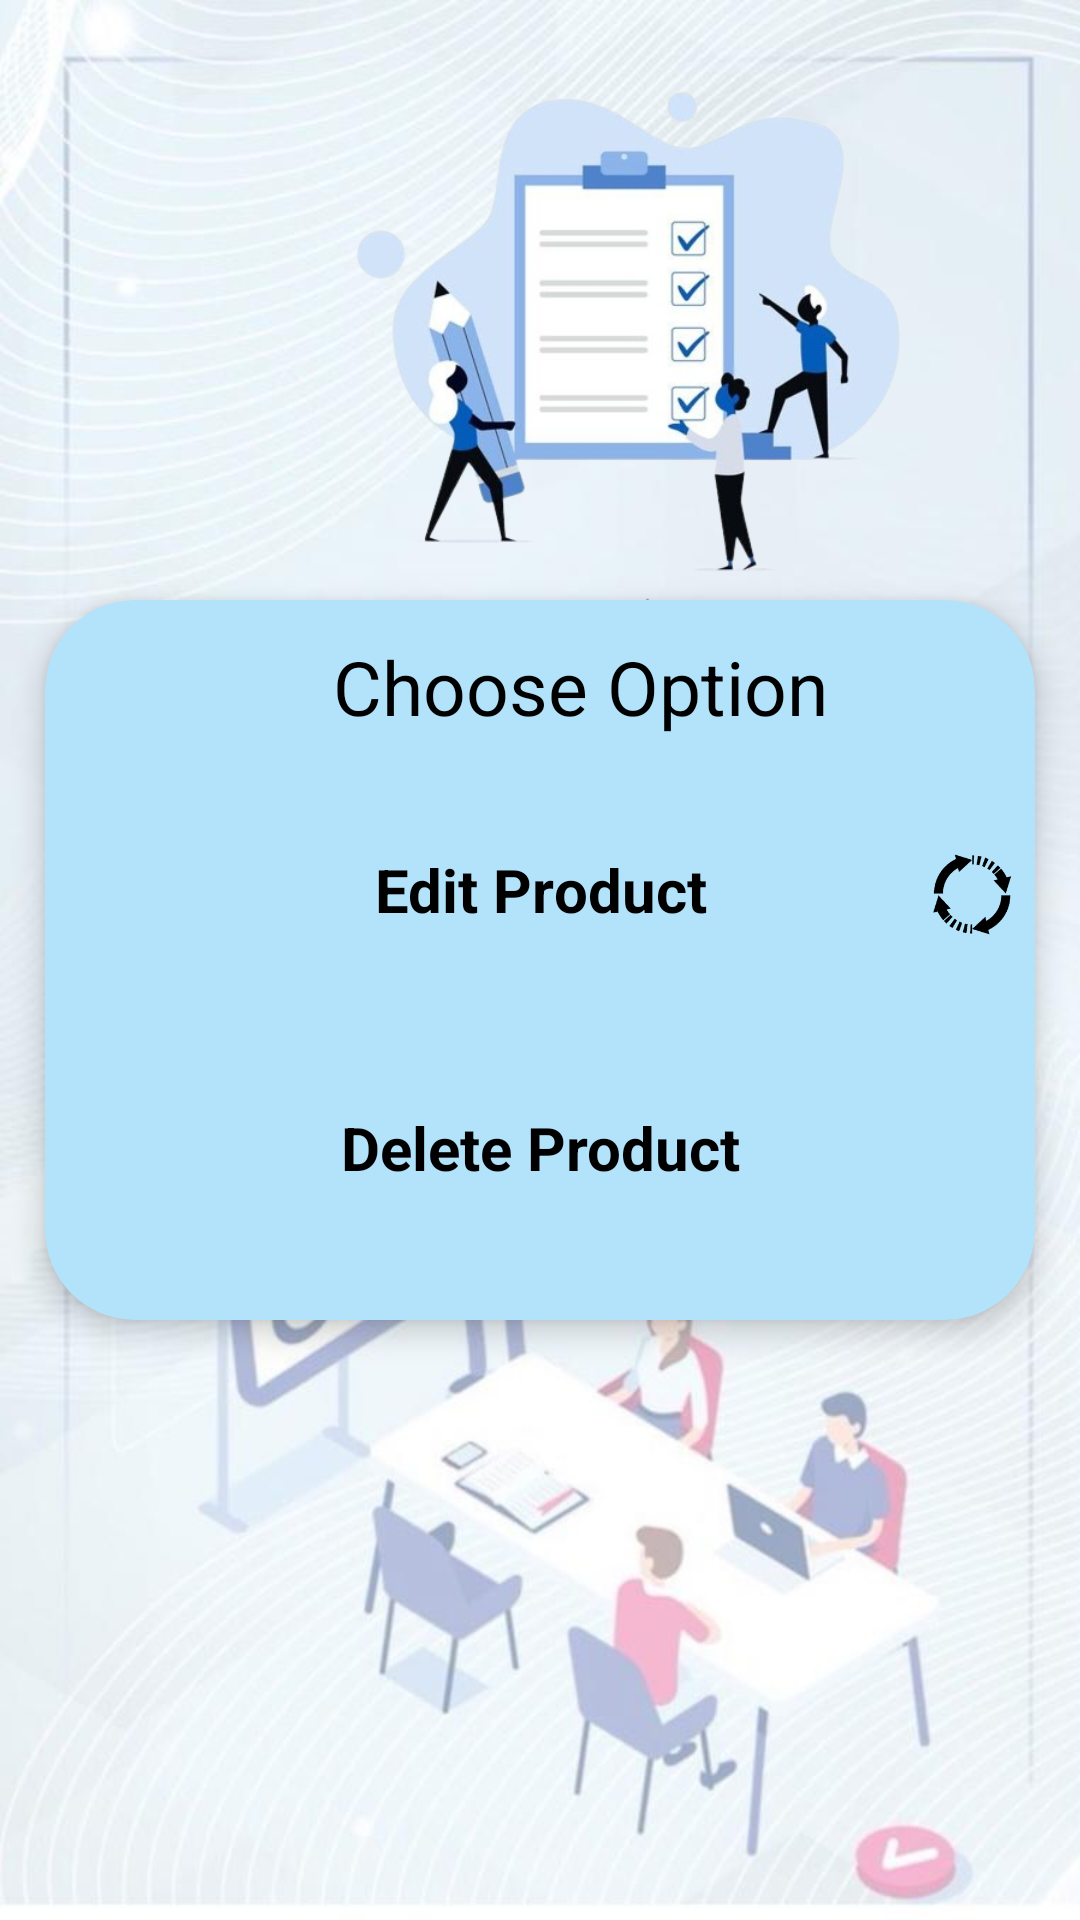

Locate icon controls on the screen. Image size 1080 x 1920, boxes as (left=x1, top=y1, right=x2, bottom=y2).
upate: (left=933, top=854, right=1011, bottom=935)
